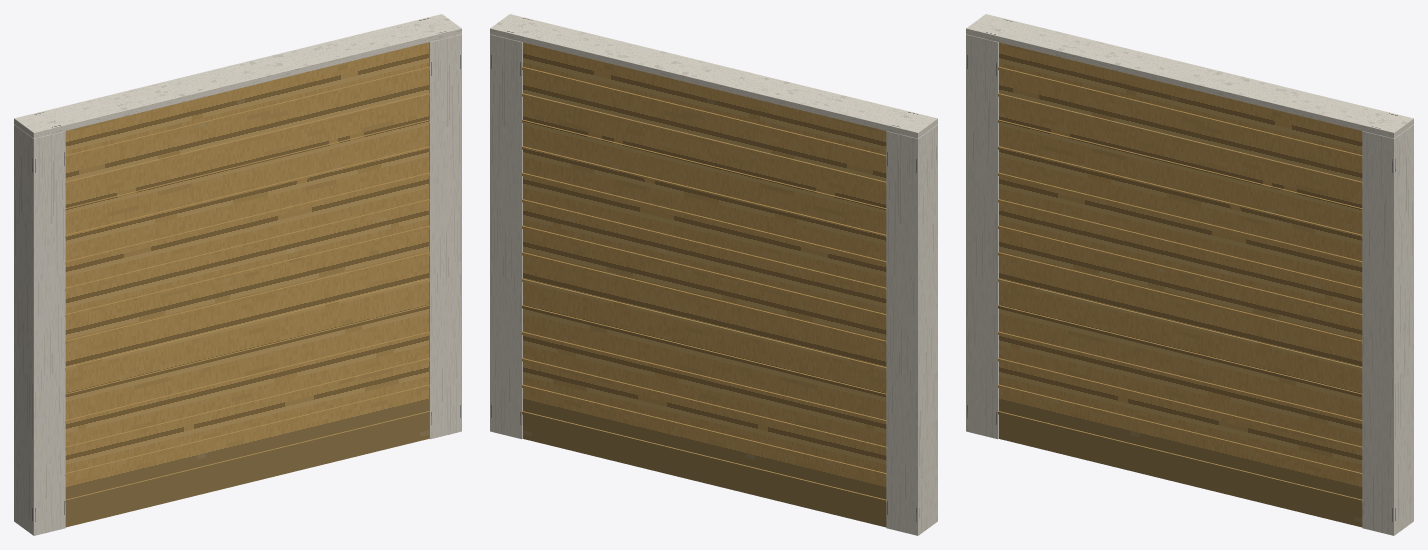
The model's file is house_03_wall_solid.glb.
3 renders of one model, left to right at view 1: azimuth 30°, elevation 25°; view 2: azimuth 150°, elevation 25°; view 3: azimuth 330°, elevation 25°, orthographic.
Parts seen in each view (by area): view 1: house_03_wall_solid; view 2: house_03_wall_solid; view 3: house_03_wall_solid.
Boxes of the visible parts, x1,y1,x2,y2 form: house_03_wall_solid: (14,14,461,535); house_03_wall_solid: (490,14,937,535); house_03_wall_solid: (966,14,1413,535).
Size of the model in its own units: 3 by 2.7 by 0.24.
2 materials, 2 textured.
